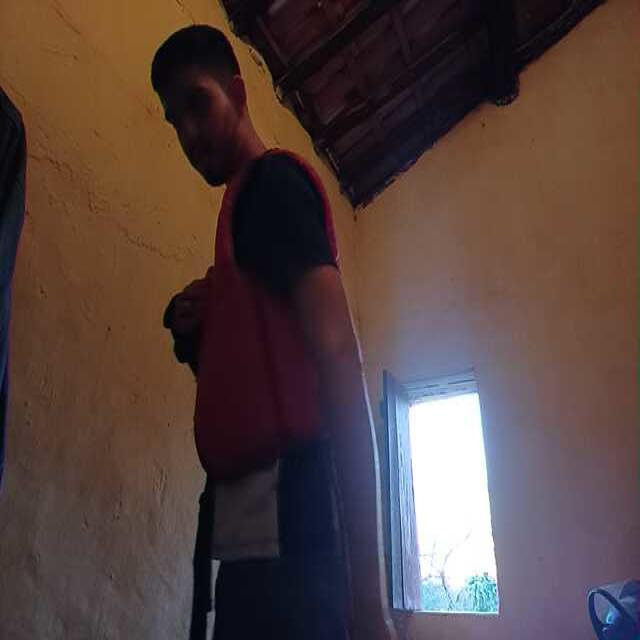capacete: (586, 577, 640, 640)
colete: (185, 159, 353, 469)
pessoa: (141, 17, 403, 640)
